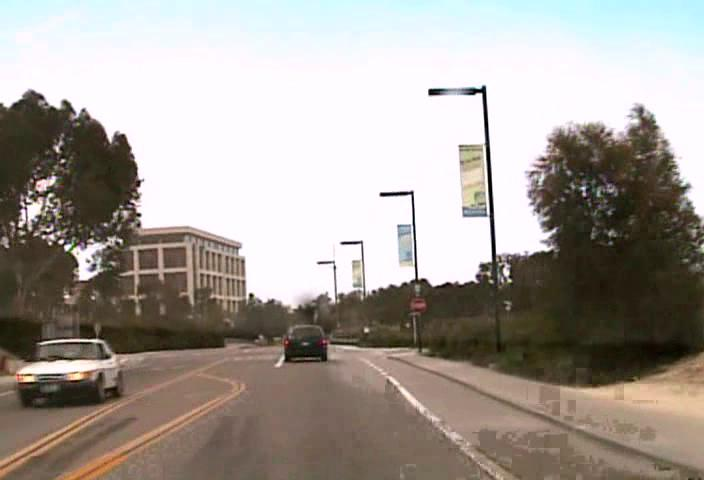stop: (409, 296, 426, 313)
